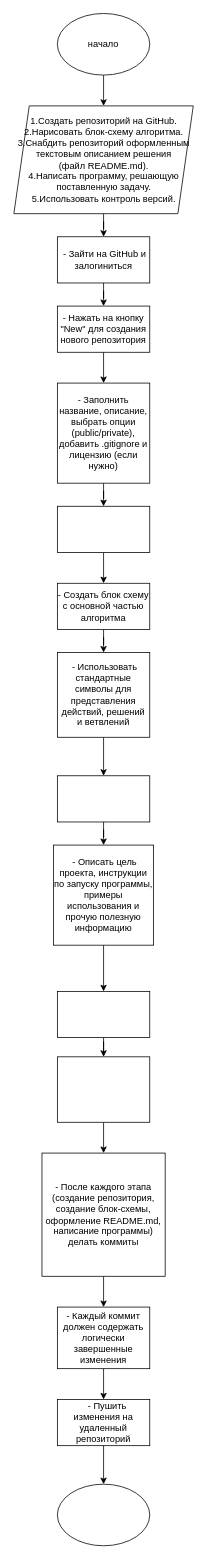
Image size: 206x1559. Some labels were removed from this diagram. The shapes that lost their labels are listed below. From the top down, each one's centre as x and y in pixels, then its label:
[103,529]: - Нажать "Create repository"
[103,798]: - Создать файл README.md в корне репозитория
[103,1014]: - Написать код, который решает задачу, описанную в README.md
[103,1089]: - Разбить код на логические блоки, создать функции или классы при необходимости
[103,1514]: Конец
